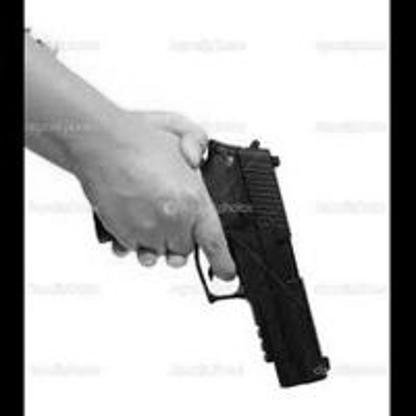weapon: (87, 133, 338, 388)
